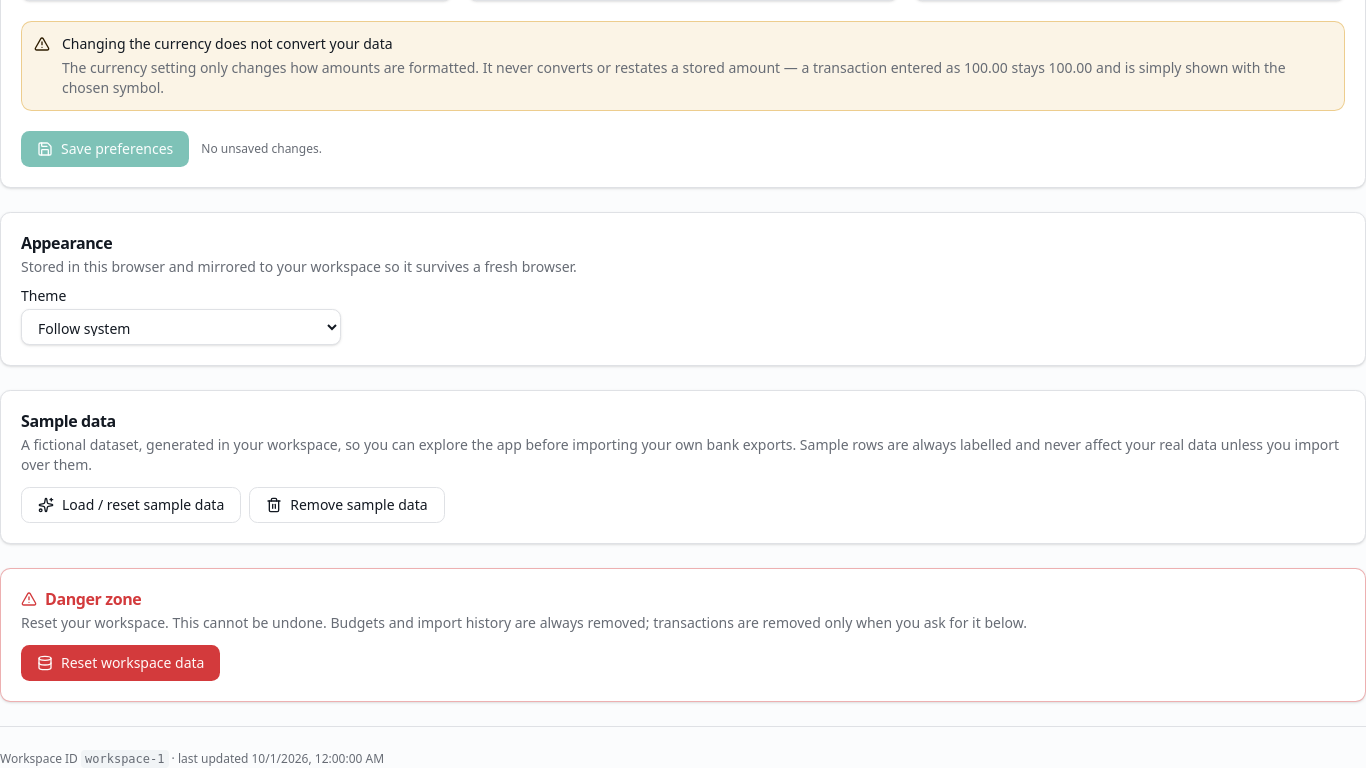
SettingsPage › requires the RESET confirmation token before destructive reset
(page scrolled)
Click the button "Reset workspace data": (121, 663) [21, 645, 220, 681]
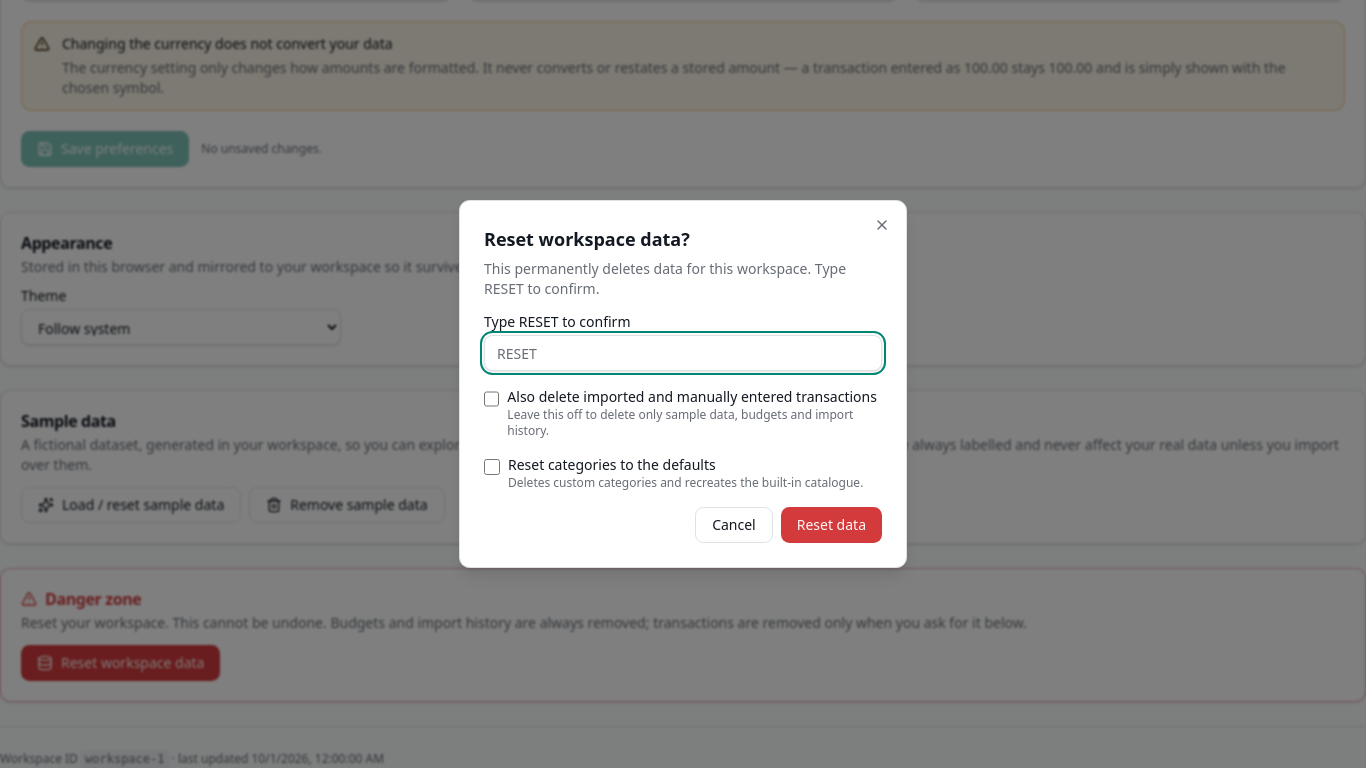
Expected: the field labelled "Type RESET to confirm" is shown, [484, 335, 882, 371]
Expected: the button "Reset data" is shown, [781, 507, 882, 543]
